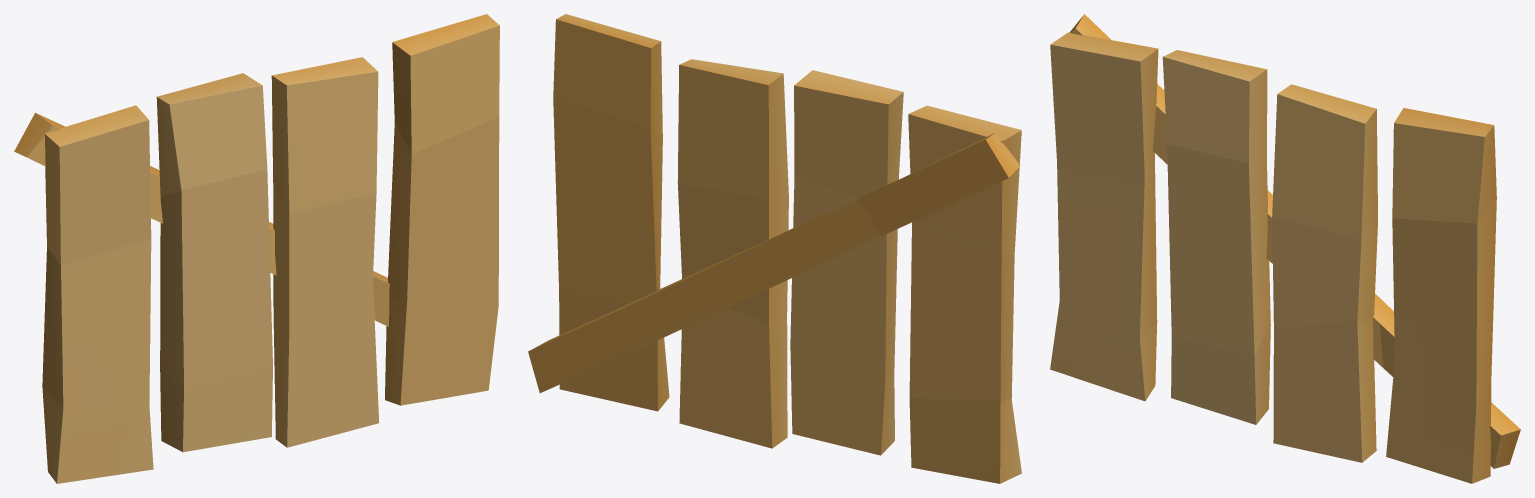
Rendered from PagarKayu6.fbx.
3 views of the same model, side by side, from view 1: azimuth 30°, elevation 25°; view 2: azimuth 150°, elevation 25°; view 3: azimuth 330°, elevation 25° (orthographic). The views are drawn at different scales.
Visible parts, largest first — view 1: Fence_01; view 2: Fence_01; view 3: Fence_01.
Part boxes in pixels (left/top/right/bottom): Fence_01: left=14, top=14, right=499, bottom=483; Fence_01: left=528, top=14, right=1021, bottom=483; Fence_01: left=1050, top=14, right=1520, bottom=483.
Size of the model in its own units: 103 by 77.11 by 12.18.
